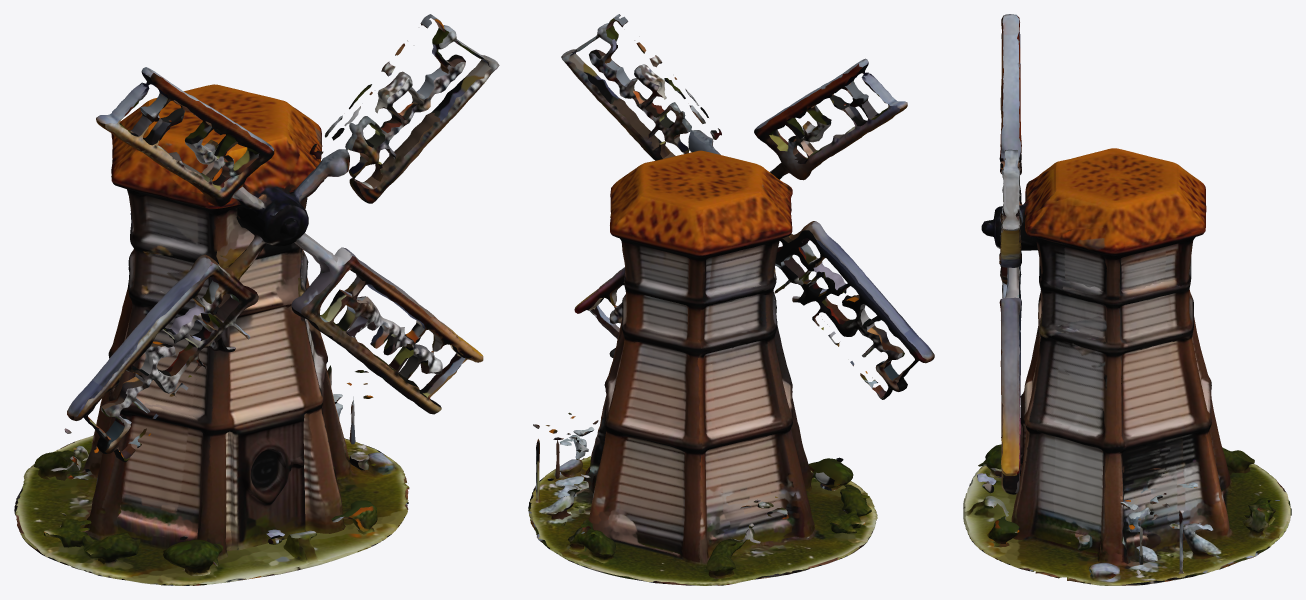
Rendered from molino_viento.glb.
3 views of the same model, side by side, from view 1: azimuth 30°, elevation 25°; view 2: azimuth 150°, elevation 25°; view 3: azimuth 270°, elevation 25° (orthographic). The views are drawn at different scales.
Visible parts, largest first — view 1: tmpmkxnqmy7.ply; view 2: tmpmkxnqmy7.ply; view 3: tmpmkxnqmy7.ply.
Boxes of the visible parts, bbox=[...] form: tmpmkxnqmy7.ply: bbox=[14, 14, 499, 585]; tmpmkxnqmy7.ply: bbox=[528, 14, 934, 585]; tmpmkxnqmy7.ply: bbox=[963, 14, 1291, 585].
Size of the model in its own units: 0.8657 by 0.9924 by 0.665.
Materials: 1 (1 with a texture image).
